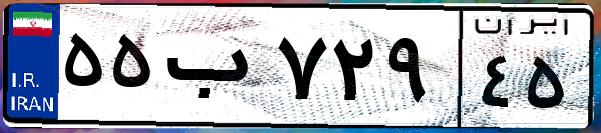2: (330, 28, 385, 110)
4: (475, 38, 525, 113)
5: (57, 26, 110, 100), (525, 38, 570, 115), (110, 28, 158, 98)
7: (270, 28, 330, 110)
9: (385, 28, 445, 110)
ب: (158, 20, 270, 120)
